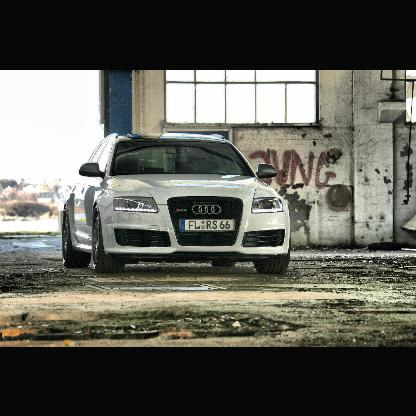Audi S6 Sedan 2011: (64, 133, 290, 276)
